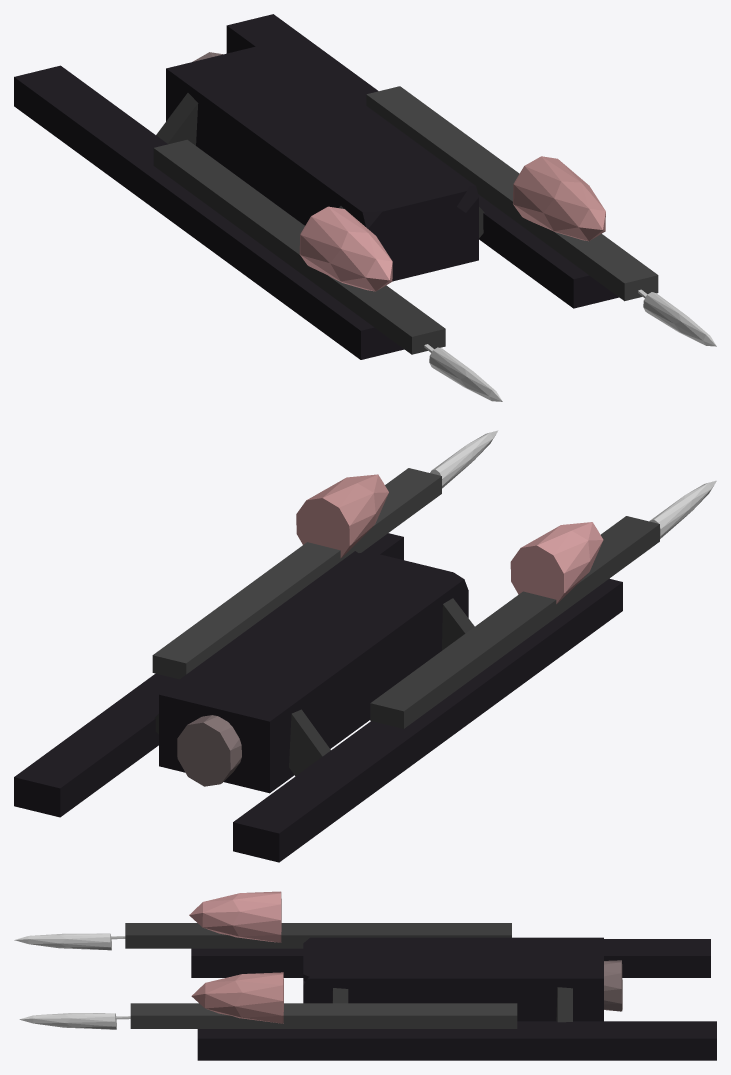
Rendered from space_cannon_center.fbx.
The picture shows the model from 3 angles, top to bottom: view 1: azimuth 30°, elevation 25°; view 2: azimuth 150°, elevation 25°; view 3: azimuth 270°, elevation 25°; orthographic projection. The views are drawn at different scales.
Visible parts, largest first — view 1: arms, Cube, Cube_001, bullet, bullet_004, legs, bullet_002, bullet_001; view 2: arms, Cube, Cube_001, bullet_004, bullet, bullet_003, legs, bullet_002, bullet_001; view 3: arms, Cube_001, Cube, bullet_004, bullet, bullet_001, bullet_002, bullet_003, legs.
Part boxes in pixels (left/top/right/bottom): arms: left=14, top=14, right=618, bottom=359; Cube: left=153, top=139, right=445, bottom=354; Cube_001: left=366, top=86, right=658, bottom=301; bullet: left=513, top=156, right=605, bottom=241; bullet_004: left=299, top=206, right=392, bottom=291; legs: left=156, top=93, right=484, bottom=237; bullet_002: left=643, top=292, right=716, bottom=346; bullet_001: left=429, top=347, right=502, bottom=401; arms: left=14, top=533, right=622, bottom=862; Cube: left=370, top=516, right=659, bottom=728; Cube_001: left=152, top=468, right=441, bottom=679; bullet_004: left=510, top=522, right=603, bottom=603; bullet: left=296, top=474, right=388, bottom=558; bullet_003: left=177, top=715, right=241, bottom=786; legs: left=154, top=598, right=474, bottom=776; bullet_002: left=430, top=430, right=498, bottom=488; bullet_001: left=649, top=480, right=716, bottom=538; arms: left=191, top=937, right=716, bottom=1060; Cube_001: left=130, top=1003, right=517, bottom=1028; Cube: left=125, top=923, right=511, bottom=948; bullet_004: left=189, top=891, right=281, bottom=942; bullet: left=191, top=972, right=283, bottom=1023; bullet_001: left=14, top=933, right=111, bottom=950; bullet_002: left=19, top=1013, right=116, bottom=1029; bullet_003: left=604, top=960, right=622, bottom=1011; legs: left=332, top=987, right=572, bottom=1022.
Size of the model in its own units: 2.1 by 0.841 by 6.35.
